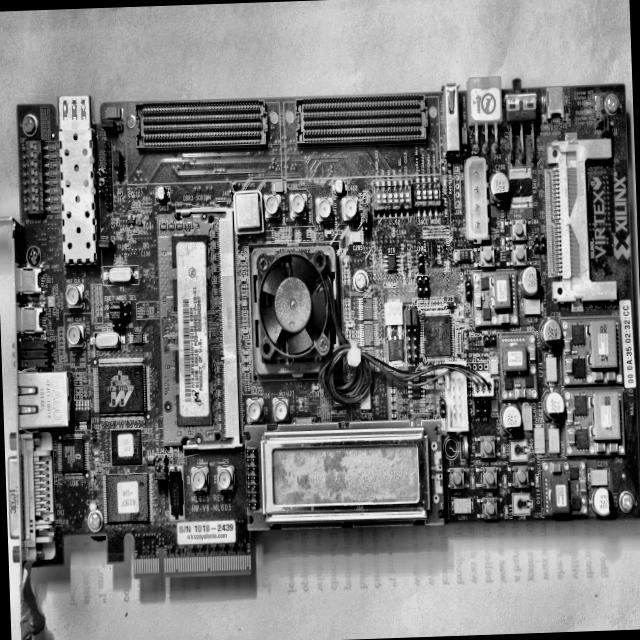PCB: (0, 69, 640, 587)
